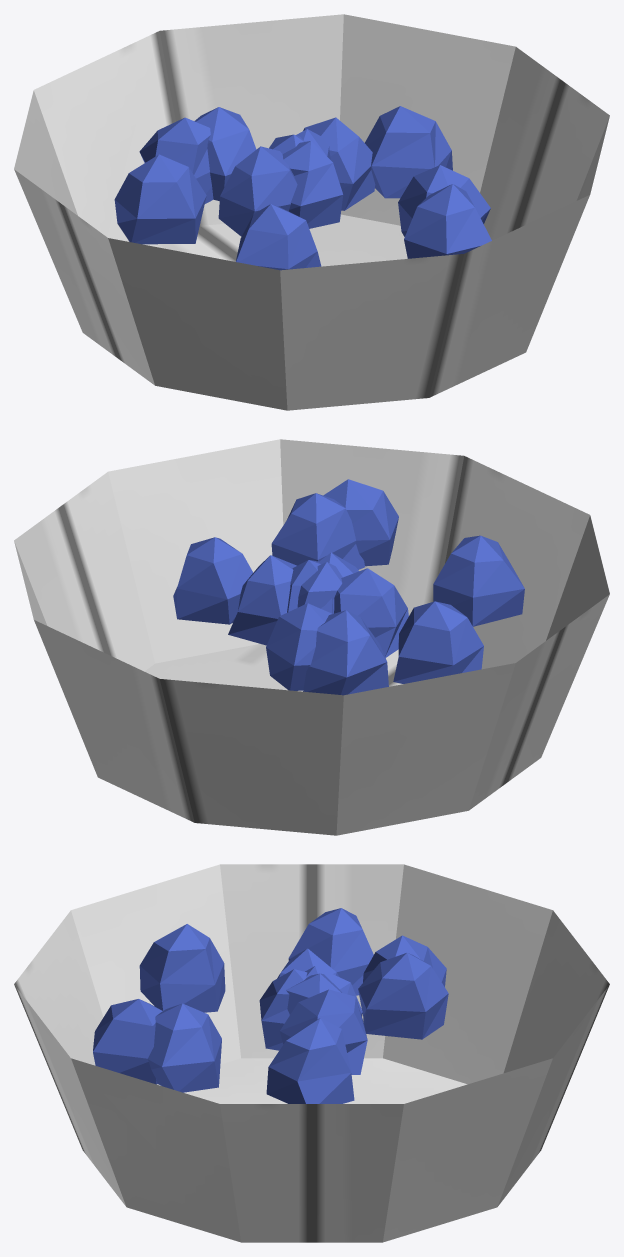
Rendered from food_berries.obj.
3 renders of one model, top to bottom at view 1: azimuth 30°, elevation 25°; view 2: azimuth 150°, elevation 25°; view 3: azimuth 270°, elevation 25°, orthographic. The views are drawn at different scales.
Visible parts, largest first — view 1: food_berries; view 2: food_berries; view 3: food_berries.
Part boxes in pixels (bbox=[...]): food_berries: bbox=[14, 14, 609, 410]; food_berries: bbox=[14, 439, 609, 835]; food_berries: bbox=[14, 864, 609, 1242].
Size of the model in its own units: 0.4946 by 0.17 by 0.52.
